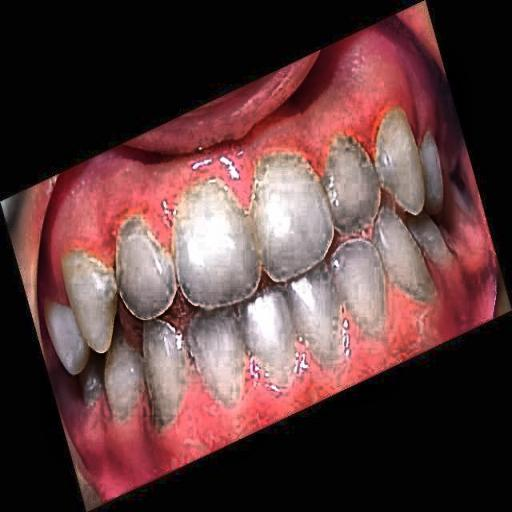Healthy: (47, 127, 488, 376)
